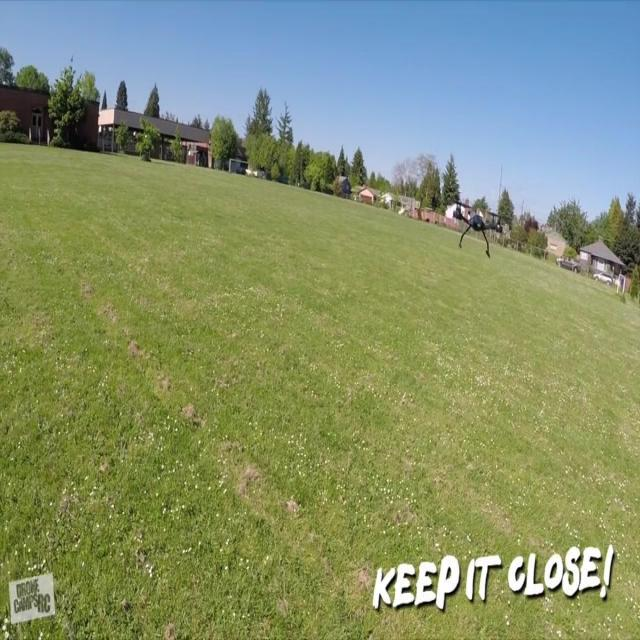drone: (448, 194, 514, 264)
